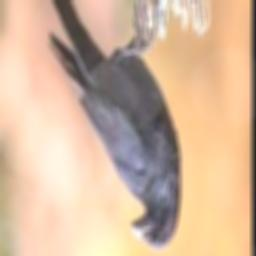Crow: (44, 0, 180, 250)
